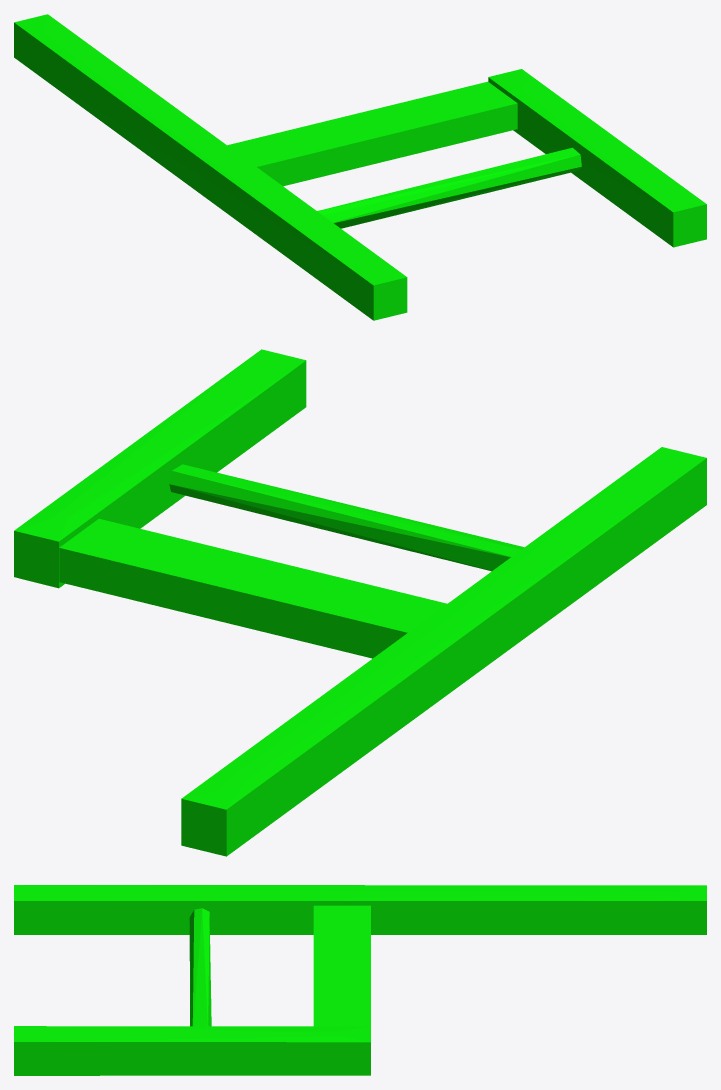
The model's file is sida_correct.obj.
The picture shows the model from 3 angles, top to bottom: view 1: azimuth 30°, elevation 25°; view 2: azimuth 150°, elevation 25°; view 3: azimuth 270°, elevation 25°; orthographic projection. The views are drawn at different scales.
Size of the model in its own units: 44.86 by 4.57 by 83.78.
